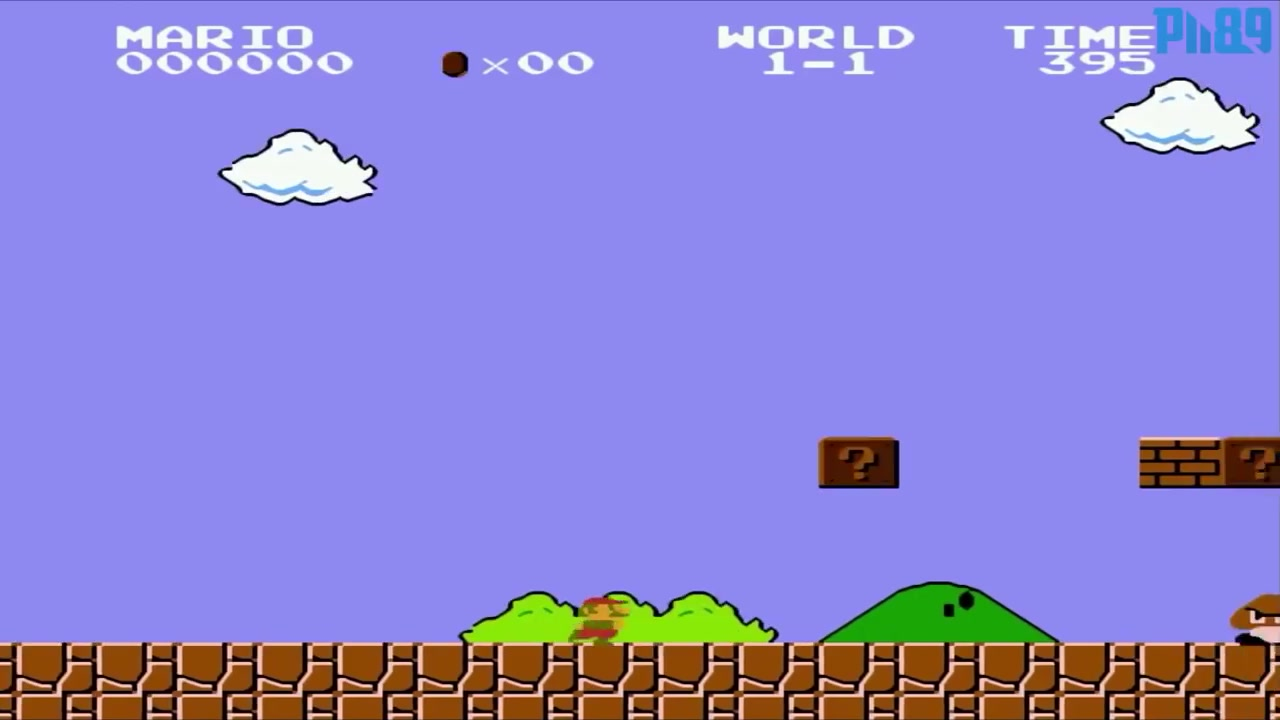mario: (562, 590, 635, 652)
